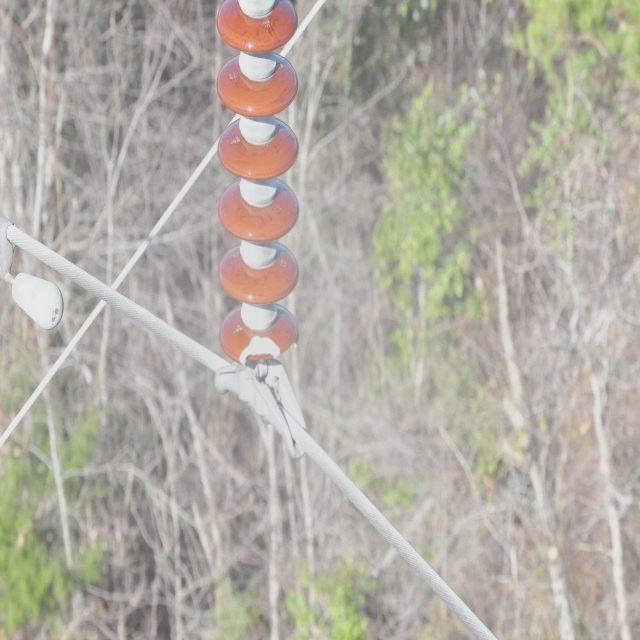broken: (239, 328, 281, 364)
insulator: (213, 0, 302, 366)
